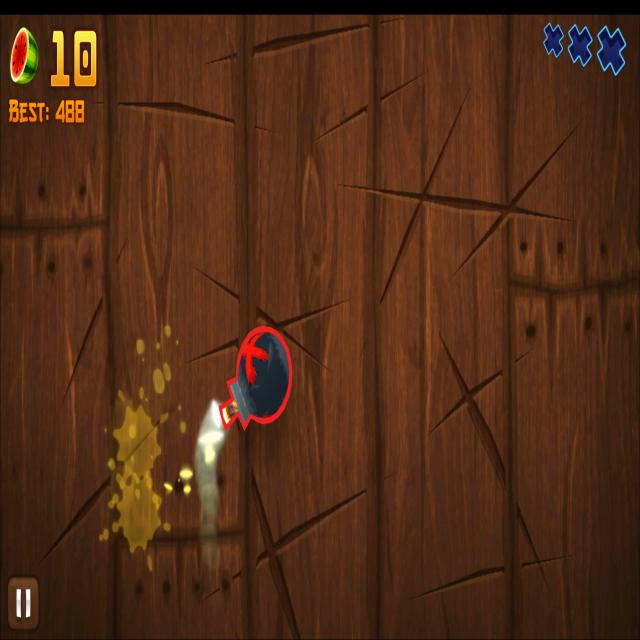bomb: (220, 325, 292, 431)
